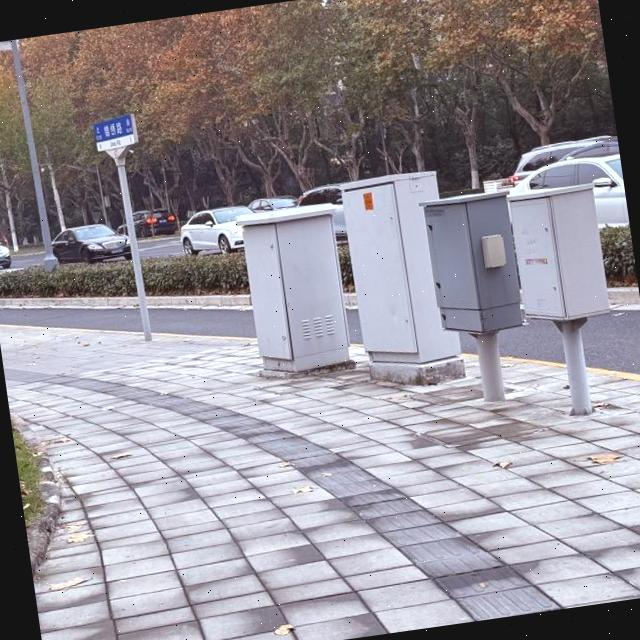curb: (26, 453, 61, 576), (0, 324, 142, 336), (0, 297, 136, 308), (148, 295, 252, 308), (154, 333, 256, 344), (501, 357, 568, 369), (588, 367, 640, 382), (609, 286, 640, 304), (344, 293, 357, 308), (462, 354, 476, 360), (352, 344, 362, 352)
